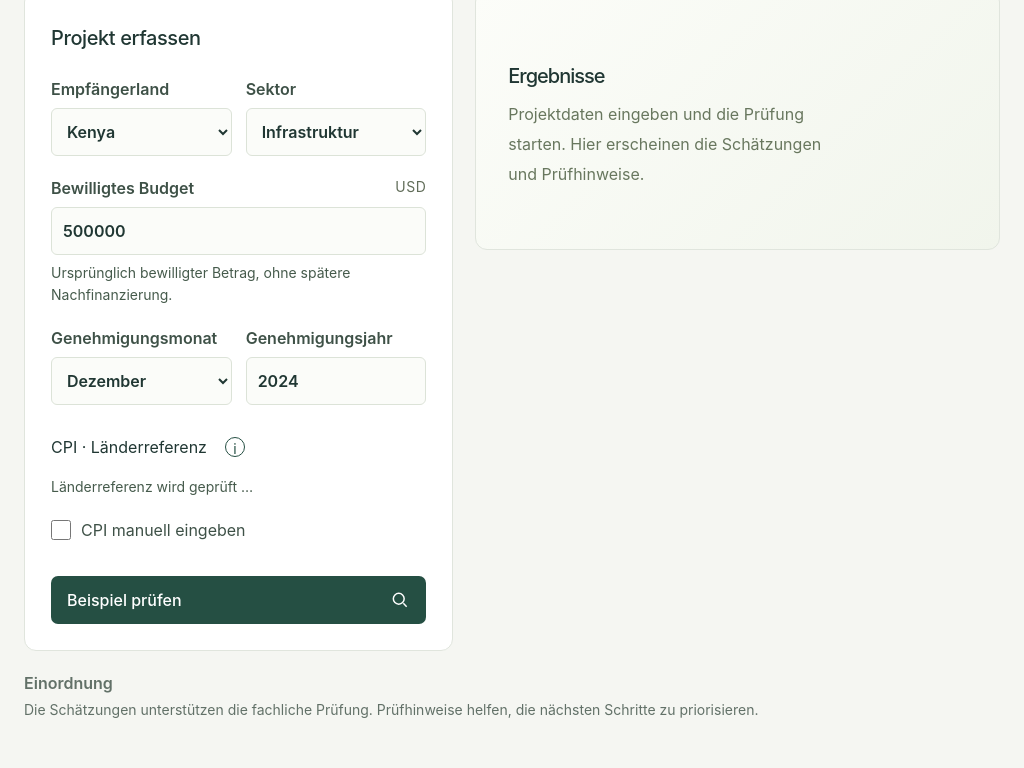
project screening › removes stale results when the user edits input
(page scrolled)
Click the button "Beispiel prüfen" at (124, 600), box 51,576 -> 426,624
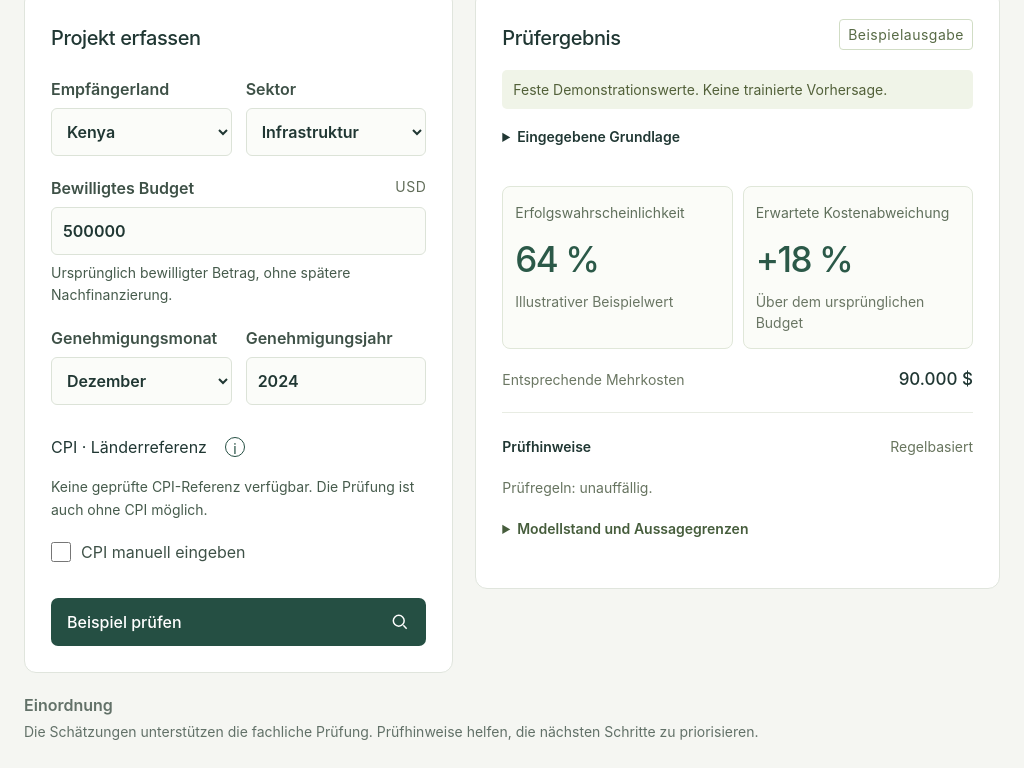
Check: the heading "Prüfergebnis" is shown, box 502,23 -> 621,53
Replace the text in the number field labelled "Bewilligtes Budget" with "100000" at (239, 231), box 51,207 -> 426,255
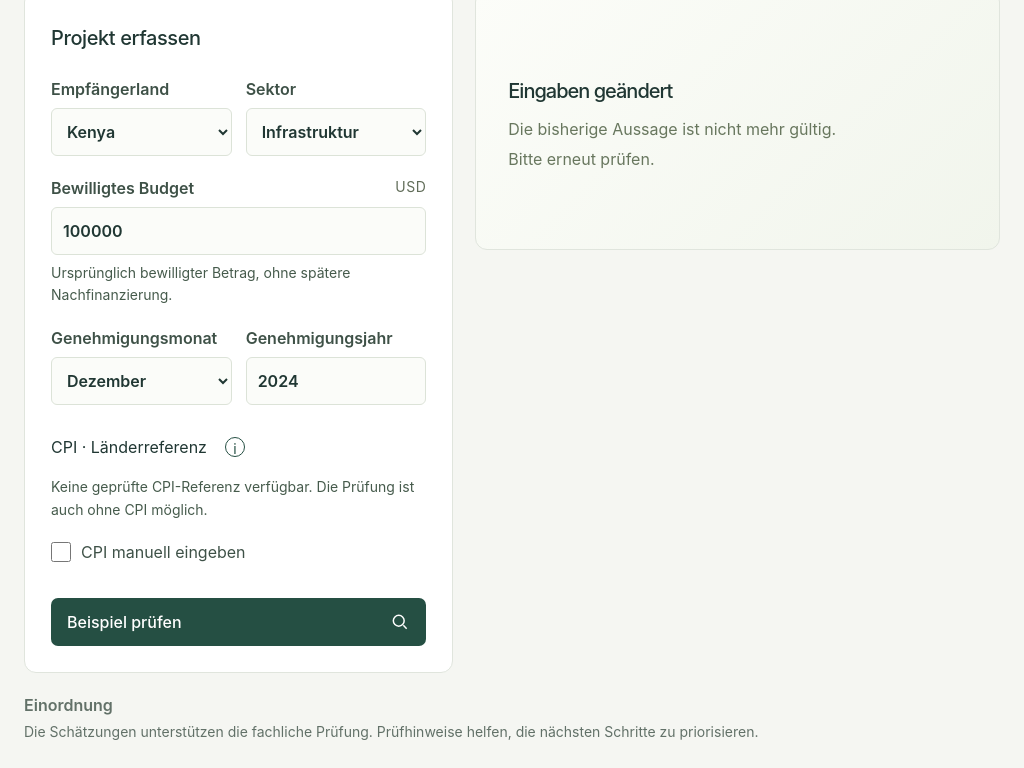
Check: the heading "Prüfergebnis" is gone
